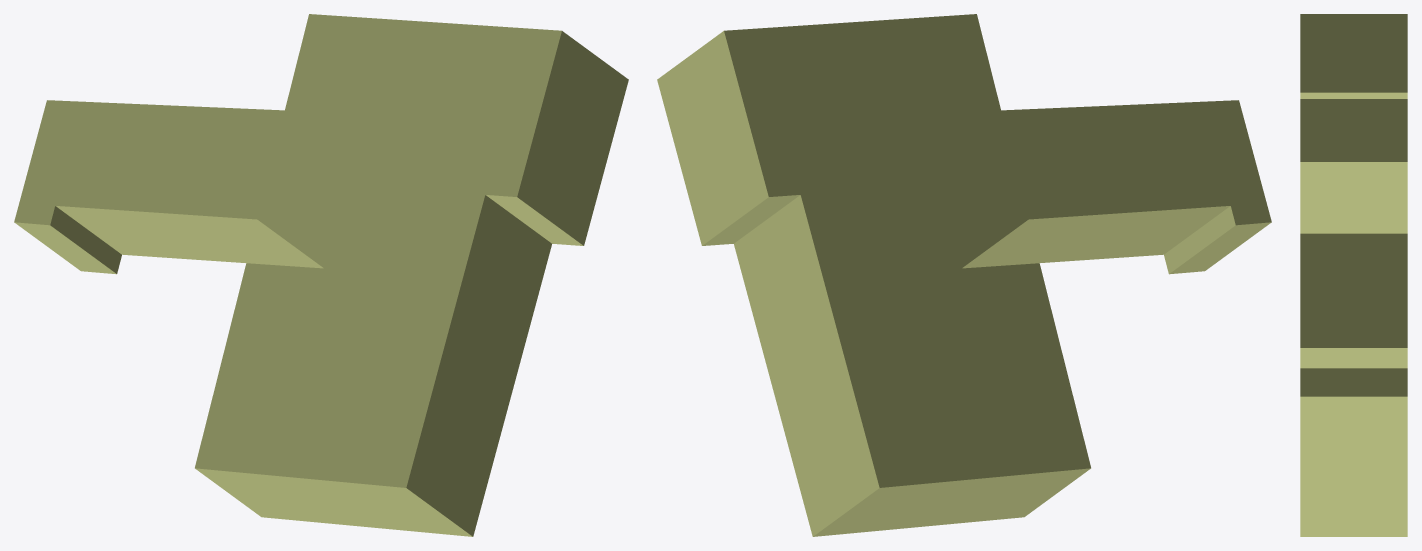
3 renders of one model, left to right at view 1: azimuth 30°, elevation 25°; view 2: azimuth 150°, elevation 25°; view 3: azimuth 270°, elevation 25°, orthographic. The views are drawn at different scales.
Visible parts, largest first — view 1: 0_3_2_2_3_1_2_0_1; view 2: 0_3_2_2_3_1_2_0_1; view 3: 0_3_2_2_3_1_2_0_1.
Boxes of the visible parts, <box> form: 0_3_2_2_3_1_2_0_1: <box>14,14,628,536</box>; 0_3_2_2_3_1_2_0_1: <box>657,14,1271,536</box>; 0_3_2_2_3_1_2_0_1: <box>1300,14,1407,536</box>.
Size of the model in its own units: 28.38 by 24.63 by 6.
